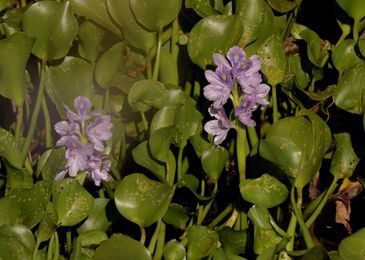water_hyacinth: (1, 45, 365, 260)
